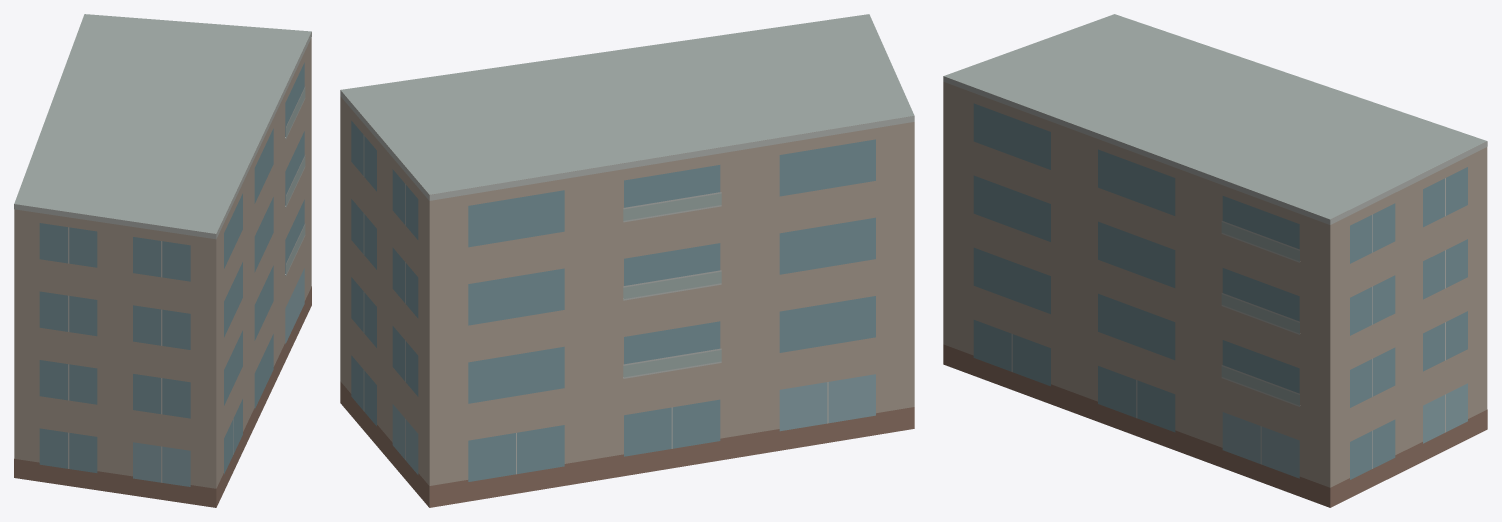
File: survey-upis-32903827.glb
3 views of the same model, side by side, from view 1: azimuth 30°, elevation 25°; view 2: azimuth 150°, elevation 25°; view 3: azimuth 270°, elevation 25° (orthographic). The views are drawn at different scales.
Parts seen in each view (by area): view 1: survey-upis-32903827.tmp; view 2: survey-upis-32903827.tmp; view 3: survey-upis-32903827.tmp.
Boxes of the visible parts, bbox=[...] form: survey-upis-32903827.tmp: bbox=[14, 14, 311, 507]; survey-upis-32903827.tmp: bbox=[340, 14, 914, 507]; survey-upis-32903827.tmp: bbox=[943, 14, 1487, 507].
Size of the model in its own units: 19.18 by 12.54 by 21.45.
